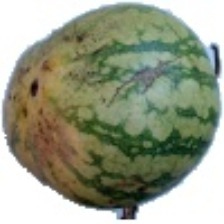watermelon: (18, 7, 211, 183)
